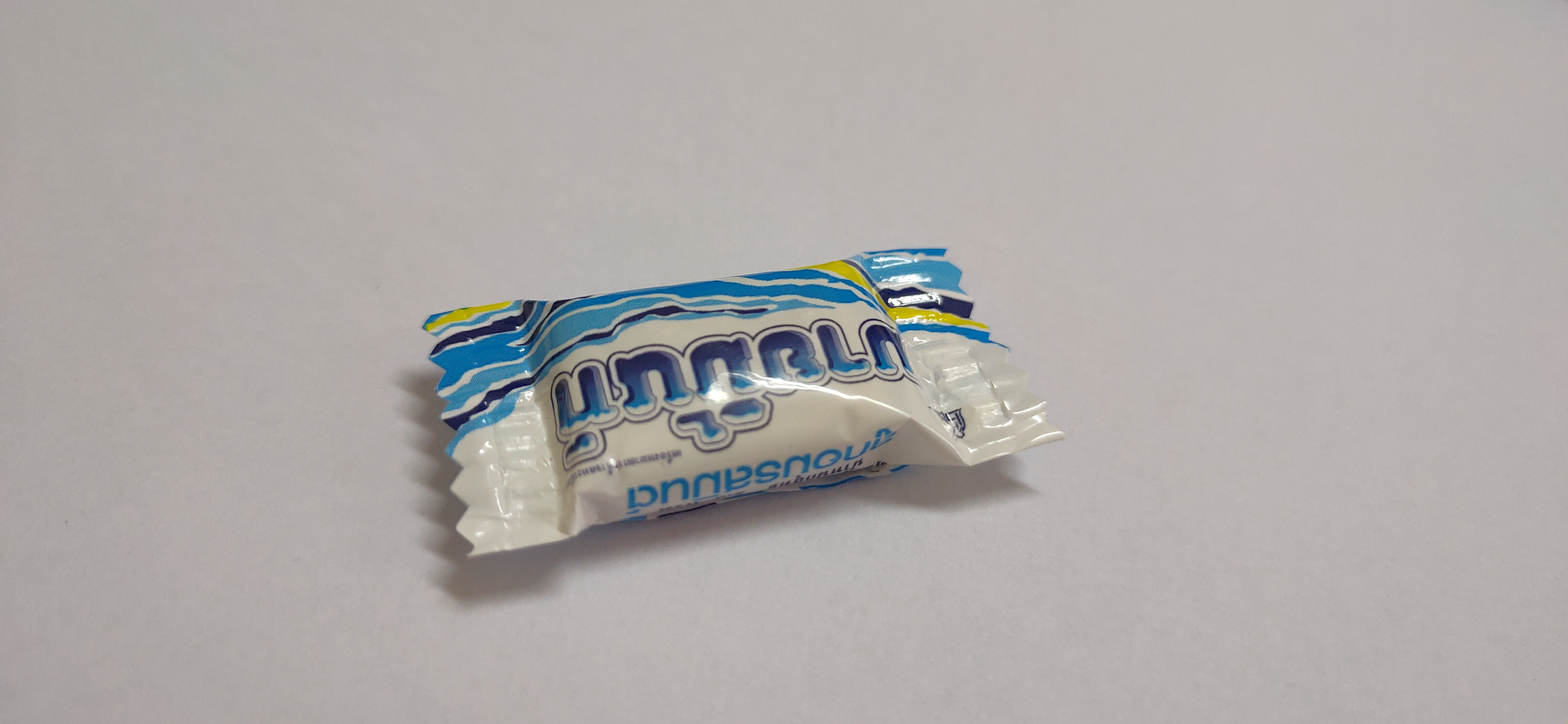plastic: (419, 225, 1095, 579)
